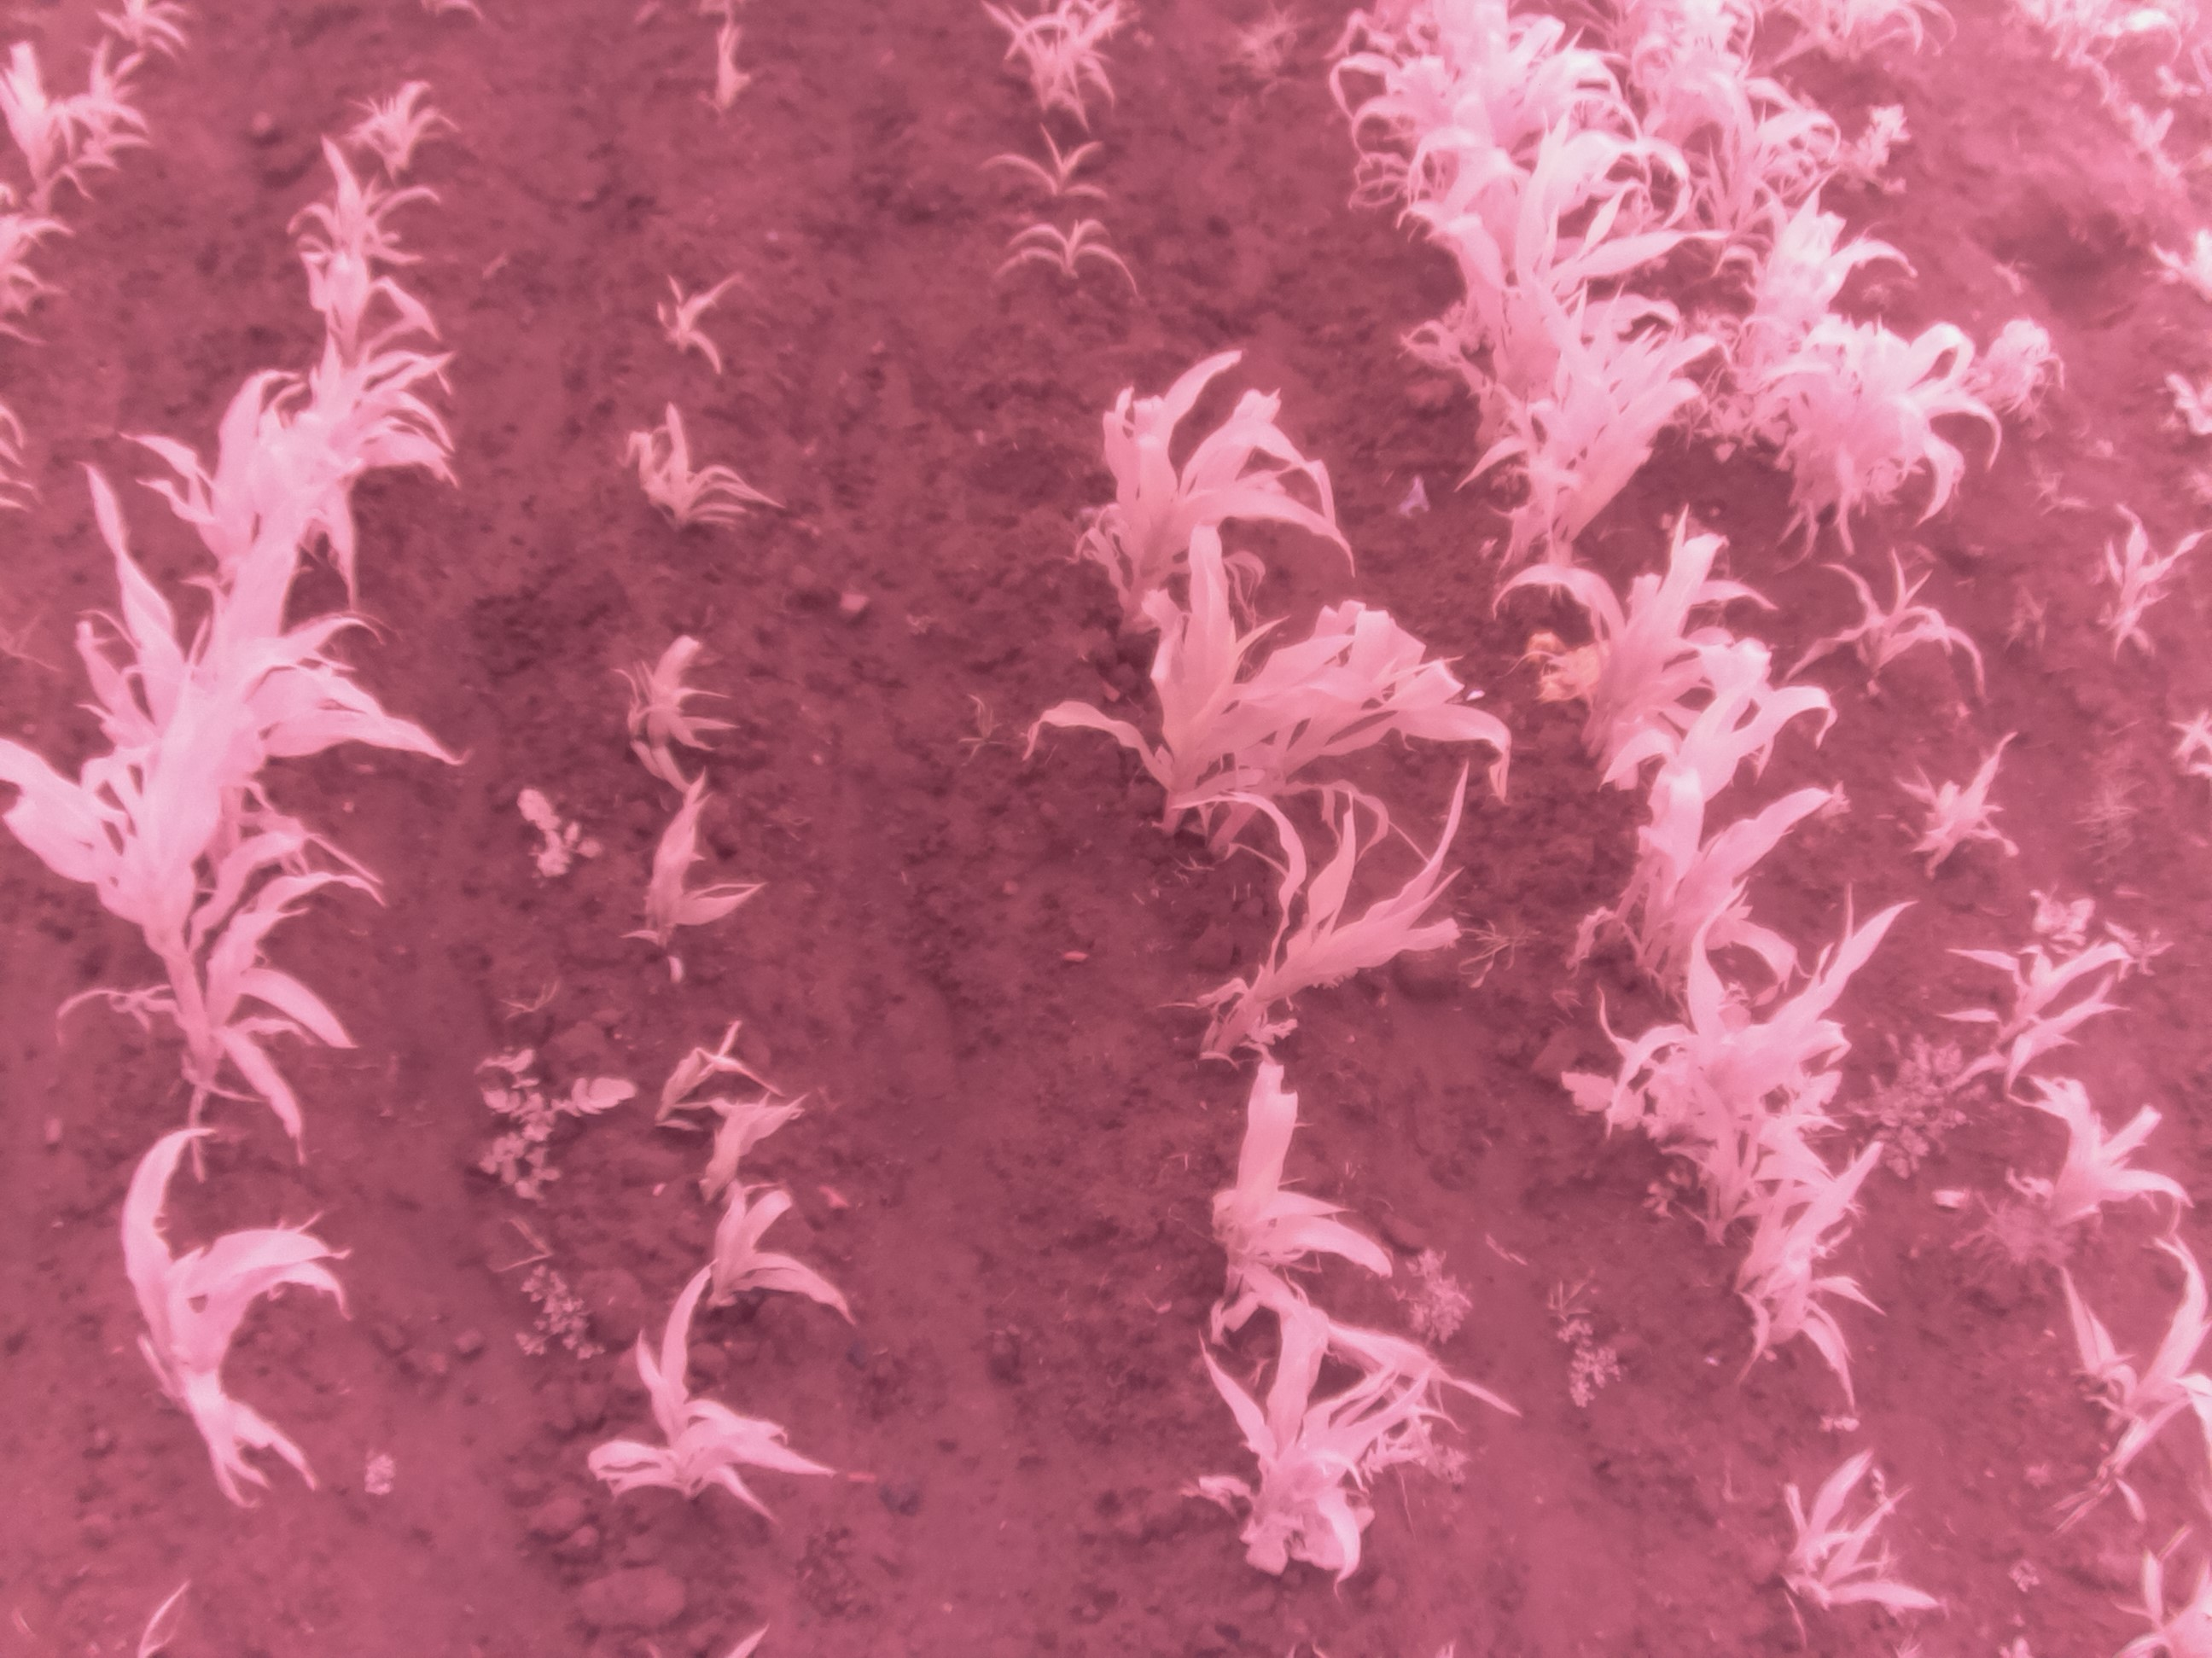Maiz: (57, 484, 442, 850), (31, 726, 338, 1125), (1198, 543, 1524, 881), (1014, 517, 1345, 843), (87, 1132, 359, 1505), (1150, 1028, 1447, 1362), (1588, 873, 1902, 1190), (1150, 761, 1477, 1062), (162, 308, 449, 639), (1052, 324, 1357, 625), (1583, 651, 1834, 979), (1385, 146, 1684, 416), (580, 1256, 848, 1526), (1486, 503, 1766, 749), (1177, 1320, 1451, 1564), (1341, 14, 1609, 258), (1775, 291, 1994, 557), (1489, 298, 1700, 568), (1651, 49, 1839, 317), (1961, 1068, 2191, 1285), (1714, 183, 1904, 444), (253, 141, 455, 366), (1940, 906, 2161, 1104), (1743, 1440, 1949, 1635), (1731, 1169, 1905, 1399), (2047, 1228, 2212, 1466), (655, 1163, 859, 1332), (617, 778, 768, 1000), (1785, 549, 1979, 709), (610, 383, 772, 550), (2078, 489, 2212, 669), (1874, 725, 2034, 874), (601, 606, 725, 796), (0, 42, 120, 211), (669, 1080, 817, 1209), (1608, 0, 1777, 110), (1010, 0, 1150, 131), (986, 199, 1155, 301), (967, 110, 1123, 214), (326, 68, 460, 172), (631, 259, 754, 367), (2017, 0, 2174, 70), (693, 3, 777, 120), (1775, 0, 1944, 54), (0, 216, 71, 343), (2155, 688, 2212, 784), (77, 0, 186, 47)
